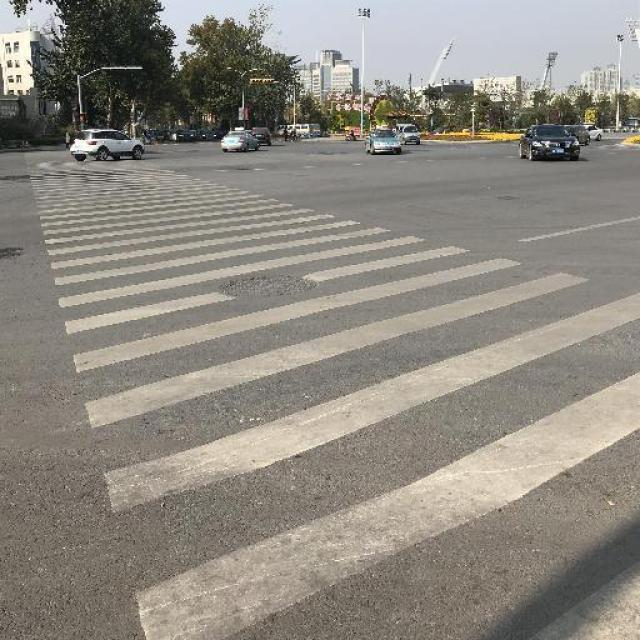crosswalk: (24, 151, 639, 640)
